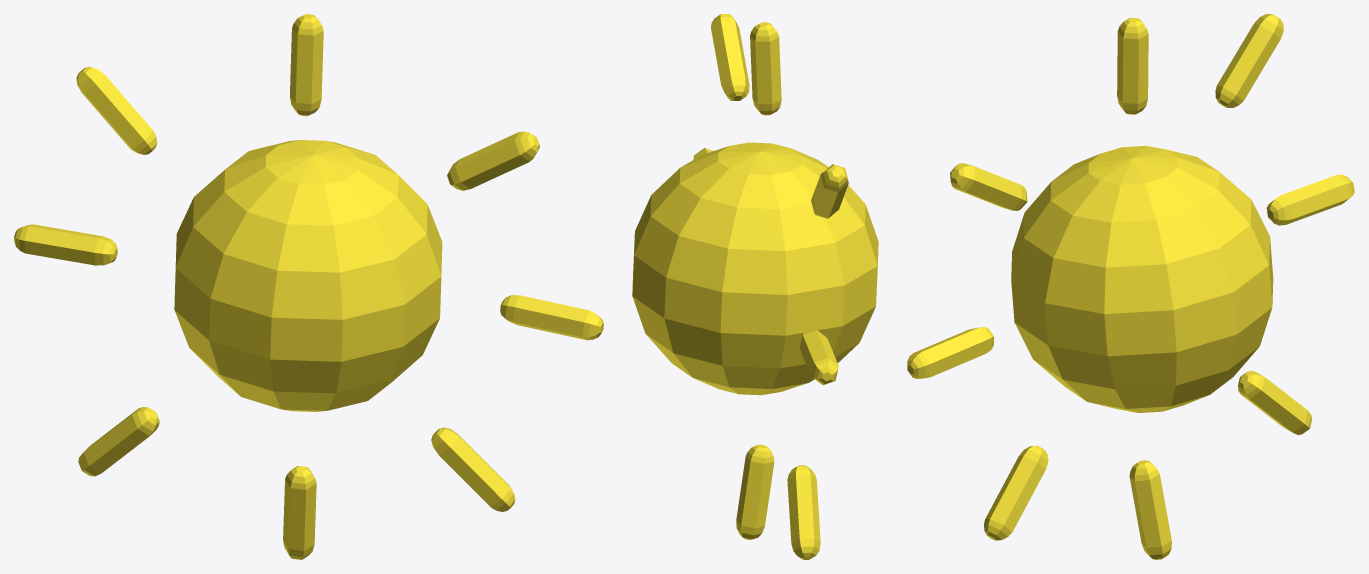
The model's file is sun.fbx.
3 views of the same model, side by side, from view 1: azimuth 30°, elevation 25°; view 2: azimuth 150°, elevation 25°; view 3: azimuth 270°, elevation 25° (orthographic). The views are drawn at different scales.
Visible parts, largest first — view 1: Sun; view 2: Sun; view 3: Sun.
Boxes of the visible parts, left/top/right/bottom form: Sun: left=14, top=14, right=603, bottom=559; Sun: left=632, top=14, right=878, bottom=559; Sun: left=907, top=14, right=1354, bottom=559.
Bounding box in the file's own units: 146 × 208 × 157.
